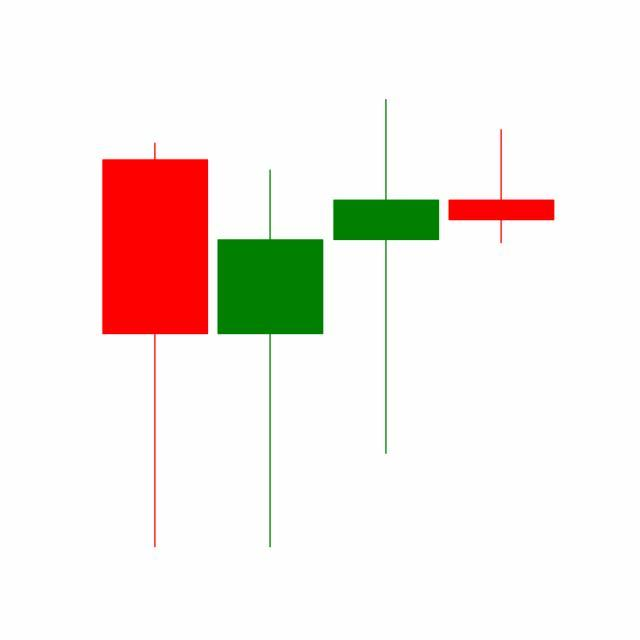Spinning Top: (444, 128, 560, 245)
